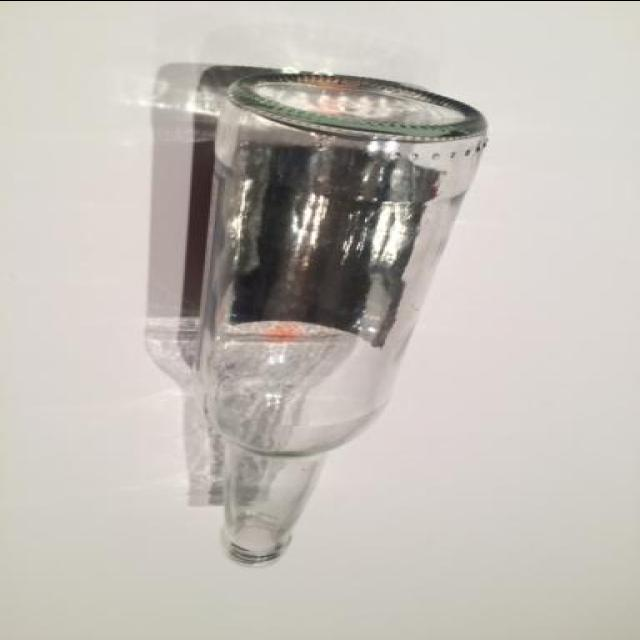litter: (190, 68, 497, 568)
